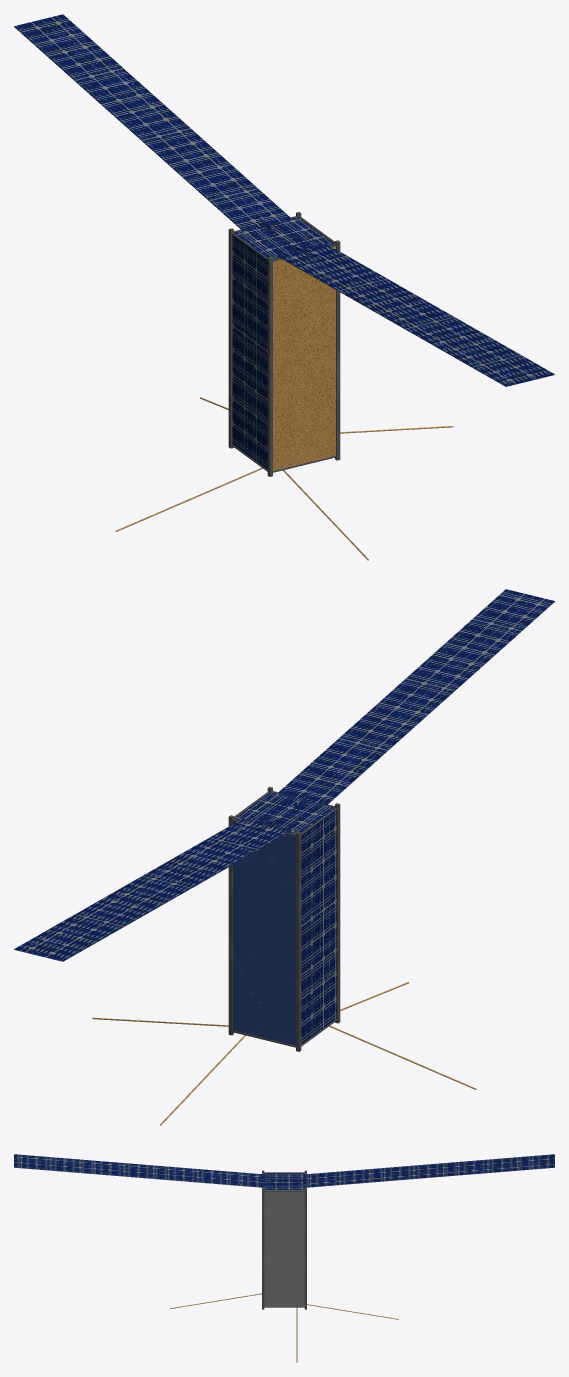
File: cubesat-0.glb
3 views of the same model, one above another, from view 1: azimuth 30°, elevation 25°; view 2: azimuth 150°, elevation 25°; view 3: azimuth 270°, elevation 25° (orthographic). The views are drawn at different scales.
Parts seen in each view (by area): view 1: cubesat; view 2: cubesat; view 3: cubesat.
Part boxes in pixels (x1=…): cubesat: x1=14, y1=14, x2=554, y2=560; cubesat: x1=14, y1=589, x2=554, y2=1125; cubesat: x1=14, y1=1154, x2=554, y2=1362.
Bounding box in the file's own units: 0.5365 × 0.3972 × 1.27.
1 material, 1 textured.
